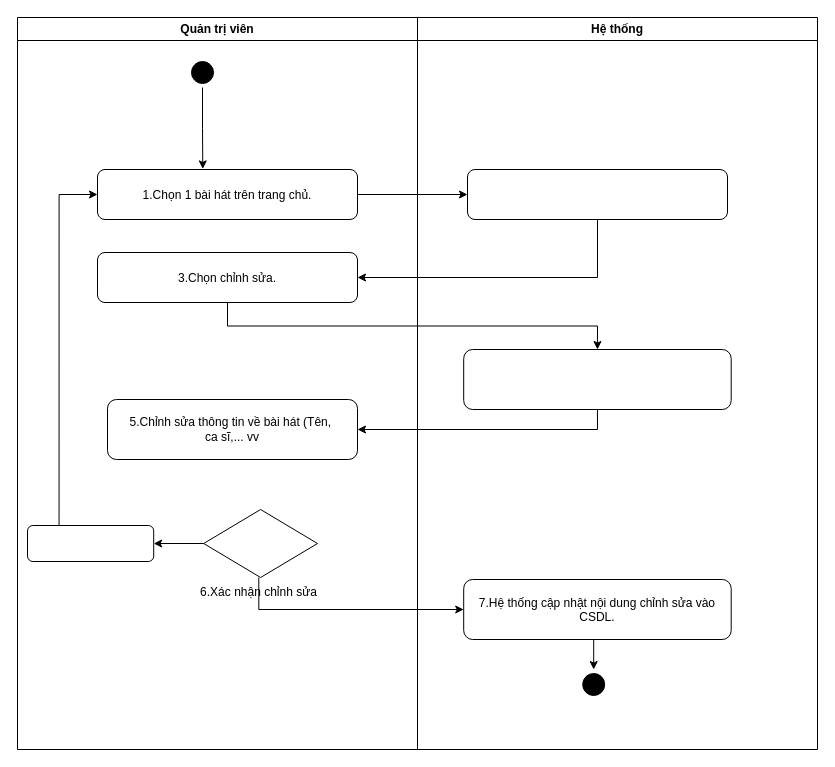
This 835x767 diagram has some shape labels left out. Here are the shapes that lost their labels. From the top down, the centre of each, then its label:
At (597,194): "2.Đưa ra giao diện chi tiết bài hát.".
At (597,379): "4.Hệ thống hiện giao diện chỉnh sửa.".
At (90,543): "6.1 Chọn huỷ chỉnh sửa".
